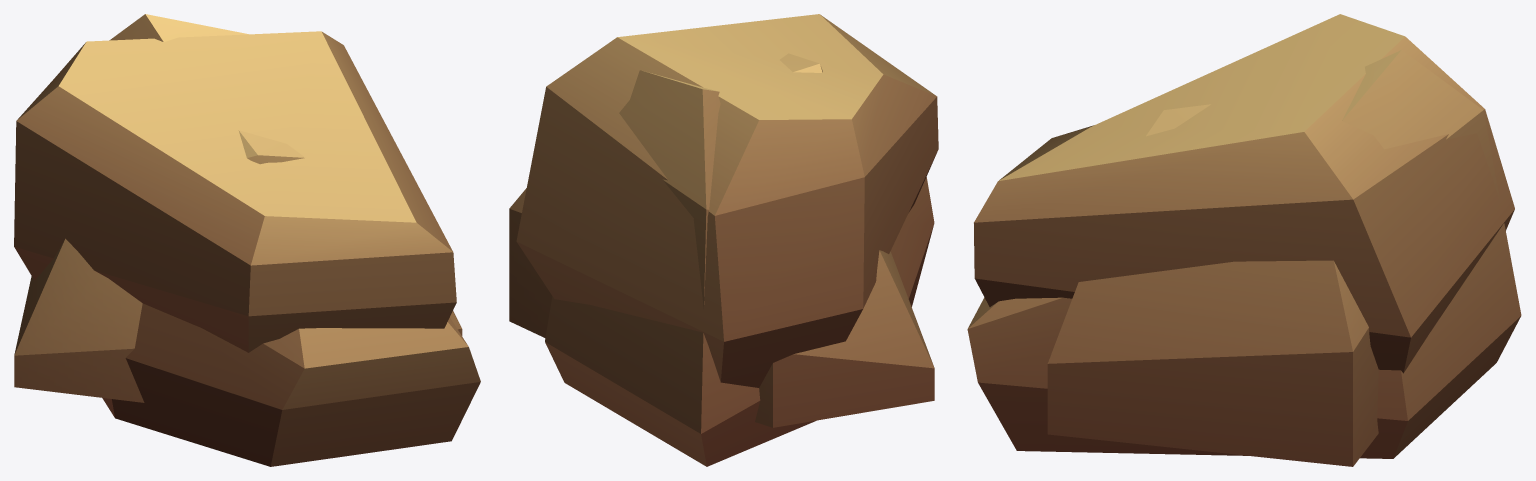
Rendered from SM_DE_Generic_Rocks.FBX.
3 views of the same model, side by side, from view 1: azimuth 30°, elevation 25°; view 2: azimuth 150°, elevation 25°; view 3: azimuth 270°, elevation 25° (orthographic). The views are drawn at different scales.
Visible parts, largest first — view 1: Rock_Desert (×3); view 2: Rock_Desert (×3); view 3: Rock_Desert (×3).
Boxes of the visible parts, x1=… form: Rock_Desert (×3): x1=14, y1=14, x2=480, y2=466; Rock_Desert (×3): x1=509, y1=14, x2=938, y2=466; Rock_Desert (×3): x1=967, y1=14, x2=1521, y2=466.
Bounding box in the file's own units: 95.26 × 75.29 × 112.
